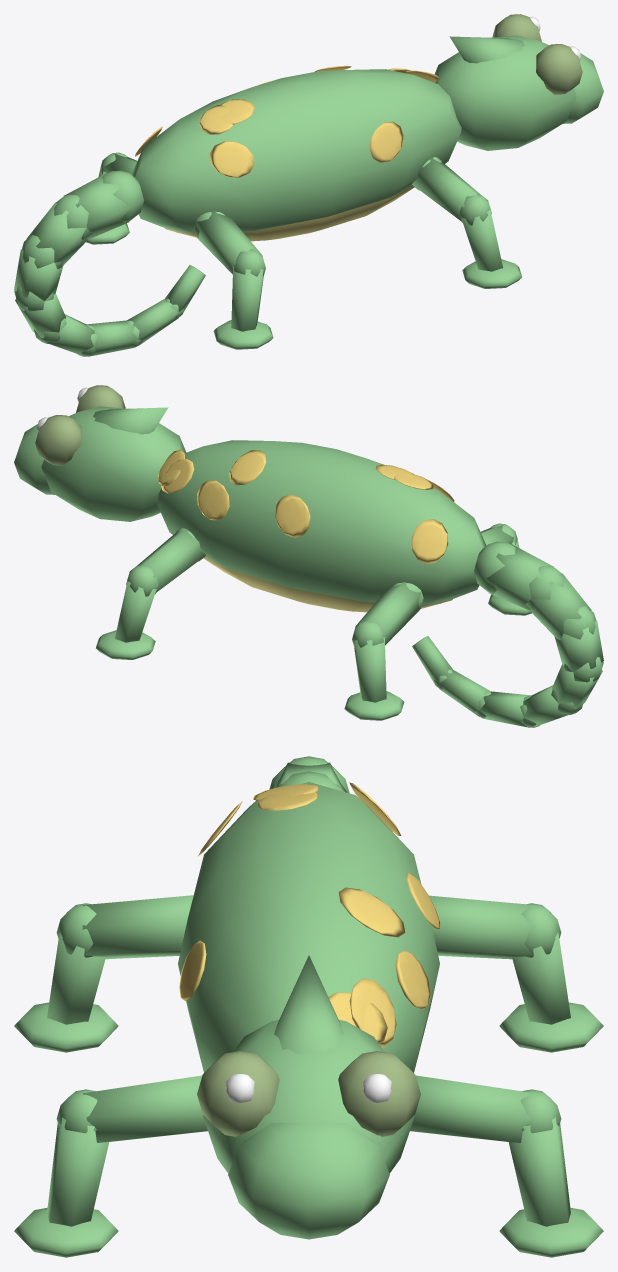
Rendered from veiled-chameleon.glb.
3 views of the same model, one above another, from view 1: azimuth 30°, elevation 25°; view 2: azimuth 150°, elevation 25°; view 3: azimuth 270°, elevation 25° (orthographic). The views are drawn at different scales.
Visible parts, largest first — view 1: e, cone, e.018, e.042, e.032, e.047; view 2: e, cone, e.018, e.047, e.037, e.042; view 3: e, cone, e.032, e.037, e.042, e.047, e.018.
Boxes of the visible parts, box(x1,y1,x2,y2) form: e: box(131, 65, 461, 241); cone: box(434, 14, 603, 150); e.018: box(14, 170, 205, 356); e.042: box(194, 211, 273, 349); e.032: box(412, 157, 521, 288); e.047: box(86, 152, 137, 244); e: box(156, 440, 486, 612); cone: box(14, 385, 186, 521); e.018: box(412, 541, 603, 727); e.047: box(344, 582, 423, 720); e.037: box(96, 528, 205, 659); e.042: box(480, 523, 531, 615); e: box(178, 782, 440, 1072); cone: box(197, 955, 420, 1239); e.032: box(14, 1075, 207, 1257); e.037: box(410, 1075, 603, 1257); e.042: box(14, 895, 193, 1052); e.047: box(429, 895, 603, 1052); e.018: box(269, 756, 349, 793).
Size of the model in its own units: 0.606 by 0.2317 by 0.315.
